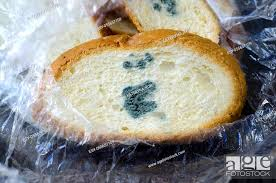mold_bread: (119, 79, 160, 119), (121, 49, 155, 71), (149, 1, 180, 16)
